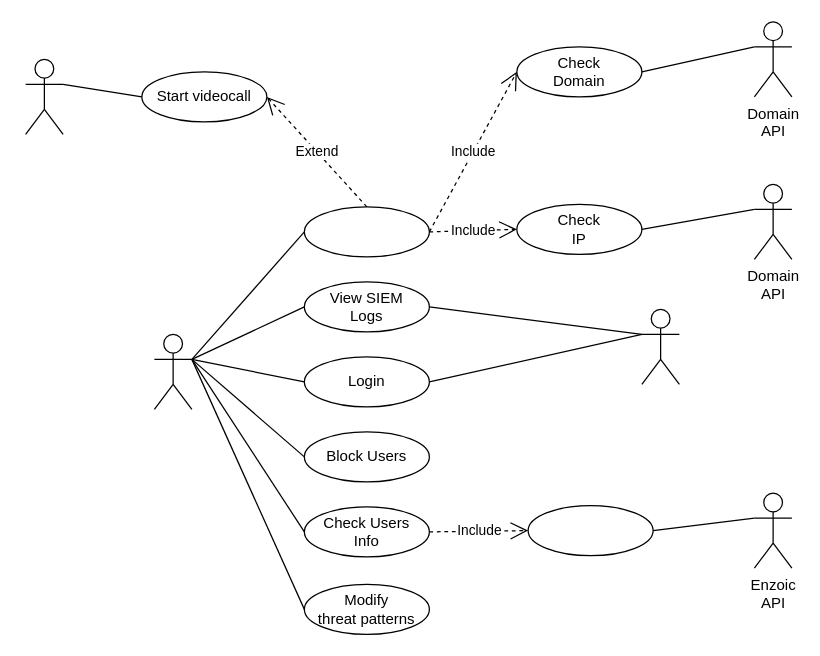
The diagram is 820 pixels wide and 656 high, and some of its shapes have lost their labels. The centre of each missing label's shape, as x and y in pixels:
"Check credentials" goes at pixel 590 530.
"SOC Analyst" goes at pixel 172 371.
"SPLUNK" goes at pixel 660 346.
"View Threat Actors" goes at pixel 366 231.
"Webex API" goes at pixel 43 96.
